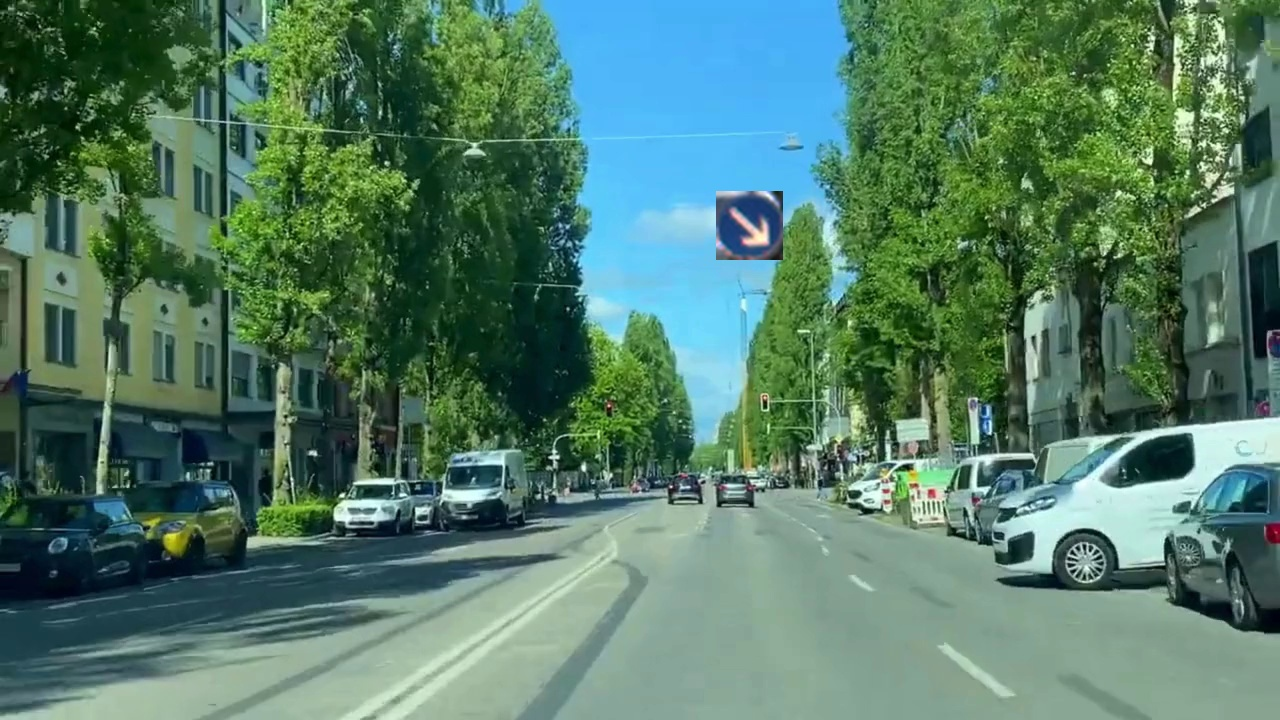Keep right: (716, 191, 783, 260)
